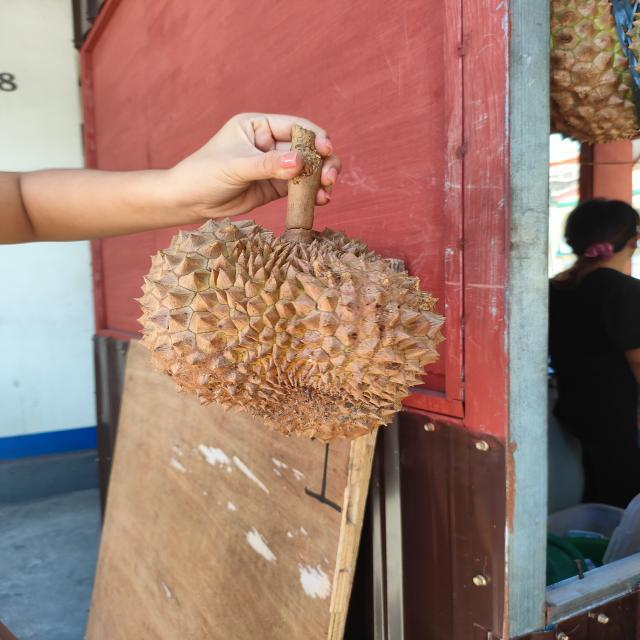mature: (133, 214, 448, 446)
